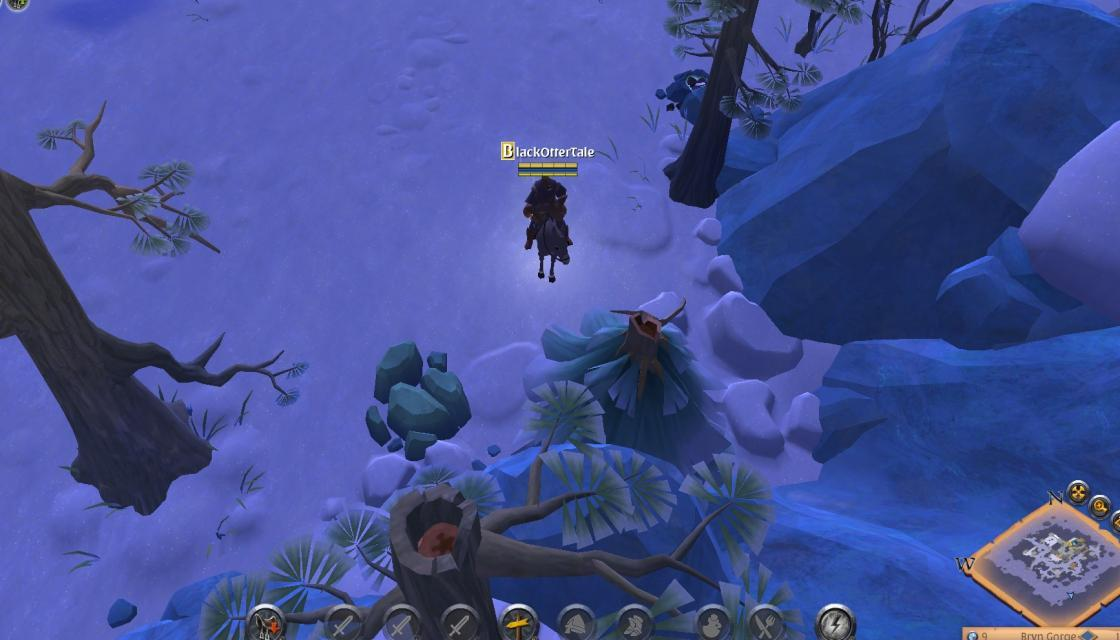sandstone: (362, 336, 474, 466)
